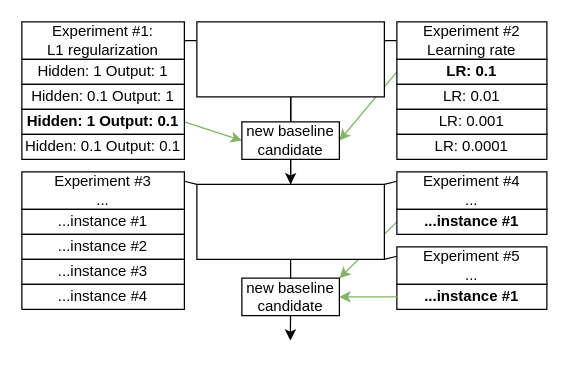
Some shapes in this 569 by 373 pixel diagram are drawn without their labels. Each missing label, with the centre of its shape:
Baseline #1: Learning rate: 0.001 L1 Hidden: 0 L1: Output: 0: the point at 290,59
Baseline #2: Learning rate: 0.1 L1 Hidden: 1 L1: Output: 0.1: the point at 290,221
